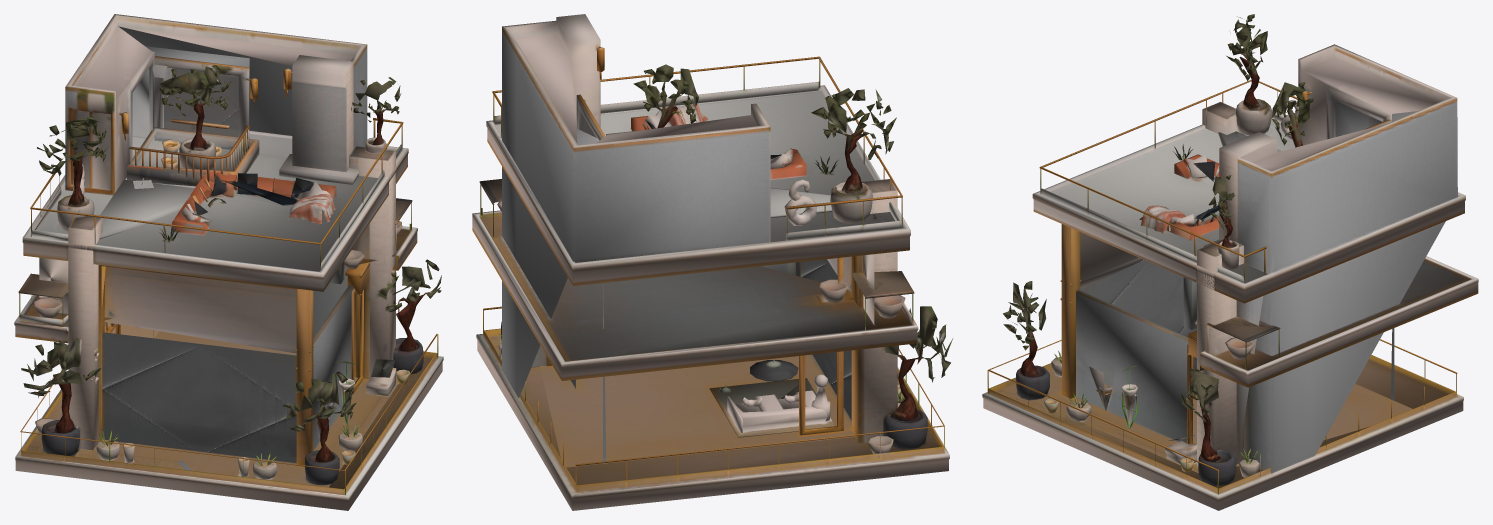
The model's file is tier4-lv18.glb.
3 renders of one model, left to right at view 1: azimuth 30°, elevation 25°; view 2: azimuth 150°, elevation 25°; view 3: azimuth 270°, elevation 25°, orthographic. The views are drawn at different scales.
Visible parts, largest first — view 1: tripo_node_77ef6819-759f-4054-ad57-acb4ddb0a322; view 2: tripo_node_77ef6819-759f-4054-ad57-acb4ddb0a322; view 3: tripo_node_77ef6819-759f-4054-ad57-acb4ddb0a322.
Part boxes in pixels (x1,y1,x2,y2): tripo_node_77ef6819-759f-4054-ad57-acb4ddb0a322: (14,14,443,510); tripo_node_77ef6819-759f-4054-ad57-acb4ddb0a322: (472,14,952,510); tripo_node_77ef6819-759f-4054-ad57-acb4ddb0a322: (982,14,1478,510).
Size of the model in its own units: 1.34 by 0.9941 by 1.38.
1 material, 1 textured.
